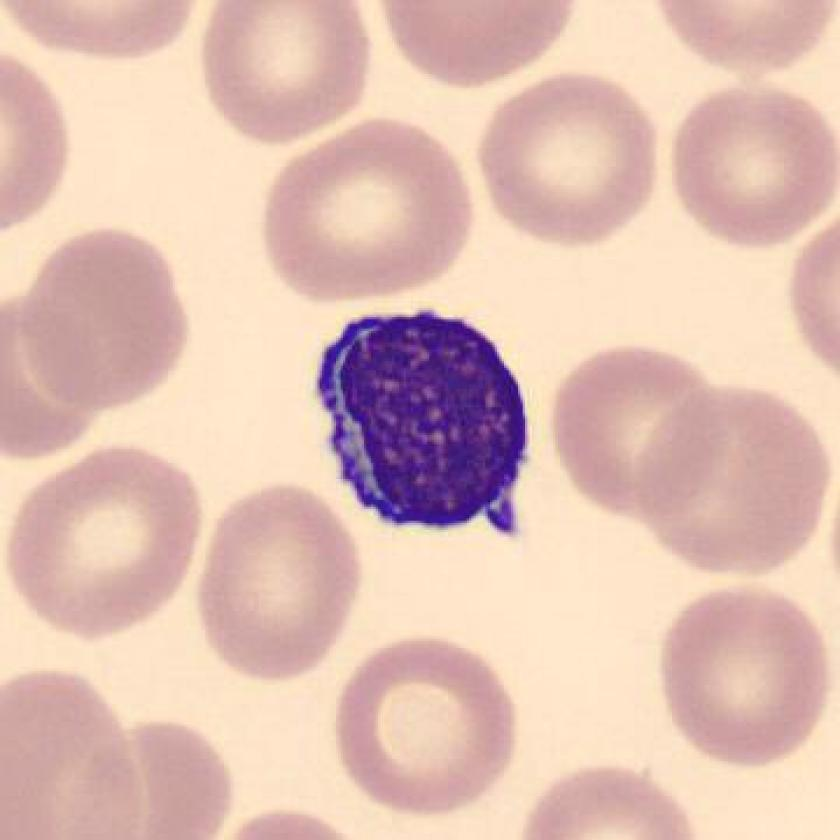lymphocyte: (302, 295, 549, 561)
